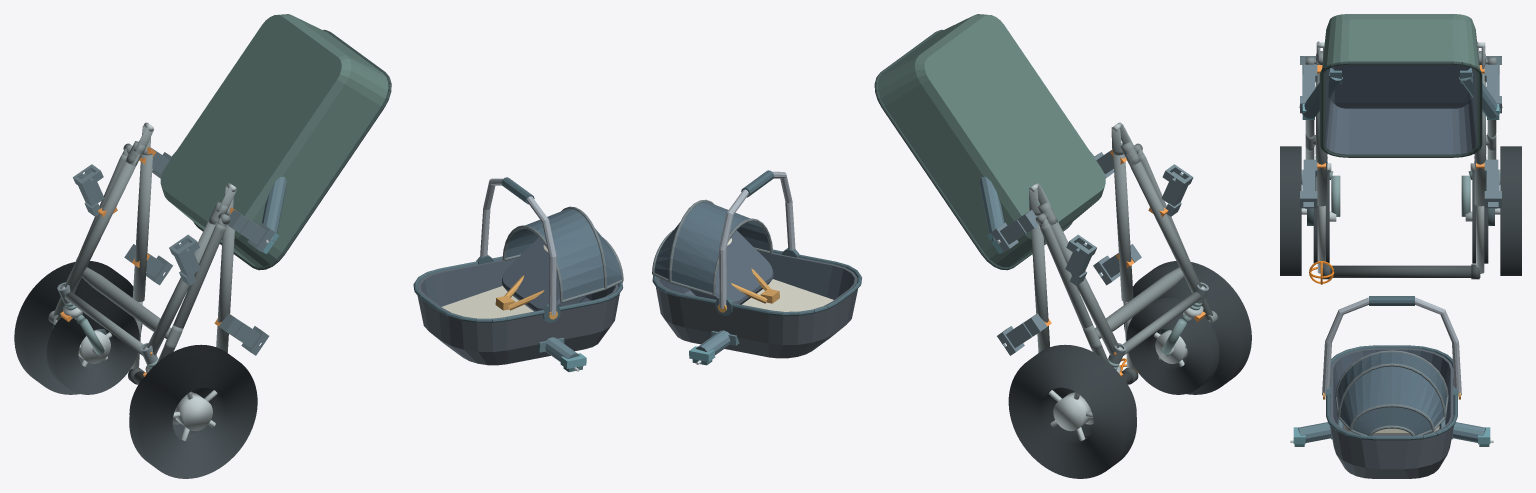
File: D10_w550_state3_wheel_L.glb
The picture shows the model from 3 angles, left to right: view 1: azimuth 30°, elevation 25°; view 2: azimuth 150°, elevation 25°; view 3: azimuth 270°, elevation 25°; orthographic projection. The views are drawn at different scales.
Visible parts, largest first — view 1: D10_Lower, D10_Upper, RL_tire.004, FR_tire.004, RR_tire.004, main_upper_1.005, main_lower_1.005, V46_rearbar.005, main_upper_-1.005, V46_rear_leg_-1.005, main_lower_-1.005, RL_sealed_hub.004 (+8 smaller); view 2: D10_Lower, D10_Upper, RR_tire.004, FL_tire.004, RL_tire.004, main_upper_-1.005, main_lower_-1.005, V46_rearbar.005, main_upper_1.005, V46_rear_leg_1.005, main_lower_1.005, RR_sealed_hub.004 (+8 smaller); view 3: D10_Lower, D10_Upper, RL_tire.004, RR_tire.004, round_handle.004, D10_Upper_Mount_H, D10_Lower_Mount_M, main_upper_1.005, main_upper_-1.005, Universal_Cabin_Receiver_H_1, Universal_Cabin_Receiver_H_-1, FR_tire.004 (+8 smaller).
Part boxes in pixels (box(x1,y1,x2,y2)): D10_Lower: box(160, 14, 391, 270); D10_Upper: box(413, 177, 623, 365); RL_tire.004: box(129, 344, 257, 478); FR_tire.004: box(46, 297, 139, 394); RR_tire.004: box(14, 261, 142, 394); main_upper_1.005: box(132, 154, 152, 301); main_lower_1.005: box(64, 154, 139, 292); V46_rearbar.005: box(82, 267, 171, 338); main_upper_-1.005: box(216, 215, 234, 352); V46_rear_leg_-1.005: box(157, 223, 226, 362); main_lower_-1.005: box(147, 220, 218, 355); RL_sealed_hub.004: box(174, 392, 212, 431); D10_Lower: box(874, 14, 1105, 270); D10_Upper: box(652, 170, 861, 358); RR_tire.004: box(1008, 344, 1136, 478); FL_tire.004: box(1126, 297, 1219, 394); RL_tire.004: box(1124, 261, 1251, 394); main_upper_-1.005: box(1113, 154, 1133, 301); main_lower_-1.005: box(1126, 154, 1201, 292); V46_rearbar.005: box(1095, 267, 1184, 338); main_upper_1.005: box(1031, 215, 1049, 352); V46_rear_leg_1.005: box(1040, 223, 1109, 362); main_lower_1.005: box(1048, 220, 1119, 355); RR_sealed_hub.004: box(1053, 392, 1091, 431); D10_Lower: box(1319, 14, 1482, 157); D10_Upper: box(1322, 296, 1461, 478); RL_tire.004: box(1280, 146, 1301, 275); RR_tire.004: box(1500, 146, 1521, 275); round_handle.004: box(1330, 265, 1480, 277); D10_Upper_Mount_H: box(1290, 419, 1493, 446); D10_Lower_Mount_M: box(1299, 68, 1502, 119); main_upper_1.005: box(1474, 73, 1485, 206); main_upper_-1.005: box(1316, 73, 1327, 206); Universal_Cabin_Receiver_H_1: box(1484, 159, 1501, 208); Universal_Cabin_Receiver_H_-1: box(1300, 159, 1317, 208); FR_tire.004: box(1472, 170, 1488, 263).
Bounding box in the file's own units: 1.62 × 1.03 × 0.671.
